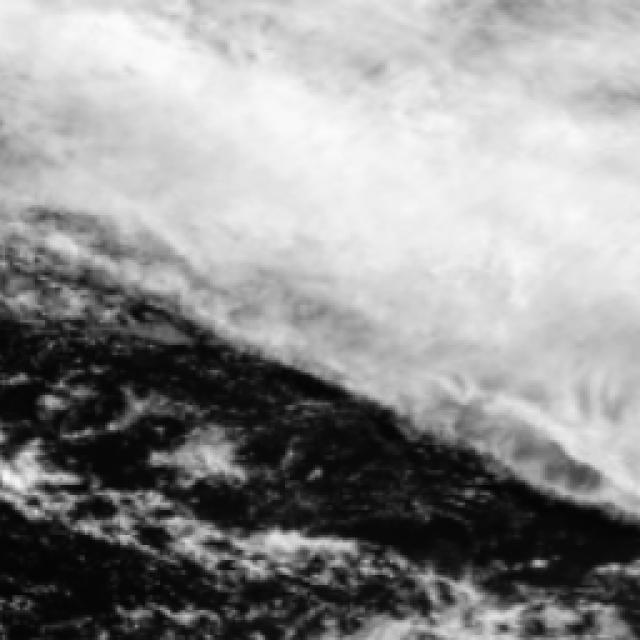CB: (247, 119, 596, 264)
